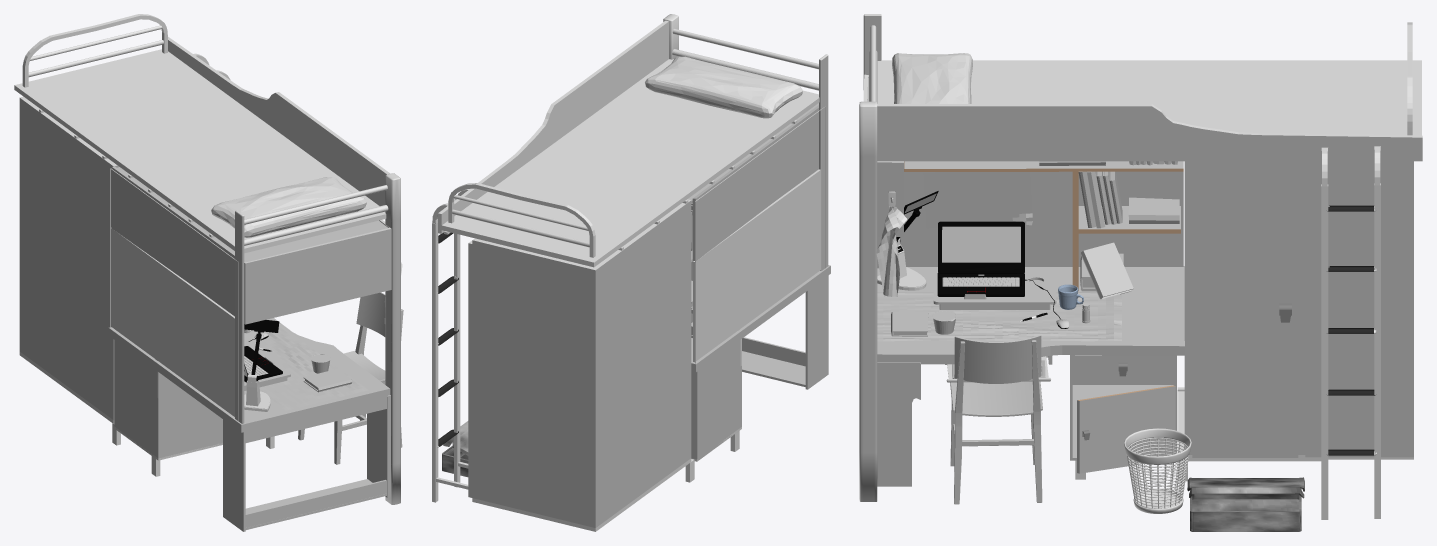
File: QINSHI.fbx
3 renders of one model, left to right at view 1: azimuth 30°, elevation 25°; view 2: azimuth 150°, elevation 25°; view 3: azimuth 270°, elevation 25°, orthographic. The views are drawn at different scales.
Visible parts, largest first — view 1: 框架, 枕头, 桌垫, Box04, 台灯, 书5, computer, 电脑桌; view 2: 框架, 枕头, 盒子; view 3: 框架, 海报2, Box04, 桌垫, computer, 盒子, 海报, 垃圾桶, 枕头, 电脑桌, 书9, 抹布 (+3 smaller).
Boxes of the visible parts, left/top/right/bottom form: 框架: left=14, top=14, right=400, bottom=531; 枕头: left=211, top=177, right=366, bottom=237; 桌垫: left=244, top=318, right=368, bottom=410; Box04: left=298, top=292, right=403, bottom=464; 台灯: left=244, top=320, right=279, bottom=411; 书5: left=303, top=369, right=352, bottom=392; computer: left=244, top=346, right=282, bottom=382; 电脑桌: left=244, top=339, right=290, bottom=390; 框架: left=432, top=14, right=830, bottom=531; 枕头: left=645, top=56, right=802, bottom=118; 盒子: left=442, top=421, right=468, bottom=477; 框架: left=859, top=14, right=1422, bottom=519; 海报2: left=1197, top=161, right=1293, bottom=302; Box04: left=950, top=335, right=1042, bottom=504; 桌垫: left=877, top=292, right=1121, bottom=341; computer: left=937, top=221, right=1024, bottom=296; 盒子: left=1187, top=477, right=1304, bottom=531; 海报: left=923, top=172, right=1032, bottom=228; 垃圾桶: left=1124, top=428, right=1191, bottom=513; 枕头: left=892, top=53, right=972, bottom=103; 电脑桌: left=933, top=270, right=1056, bottom=309; 书9: left=1080, top=242, right=1133, bottom=299; 抹布: left=876, top=206, right=907, bottom=296.
Bounding box in the file's own units: 476 × 749 × 933.
